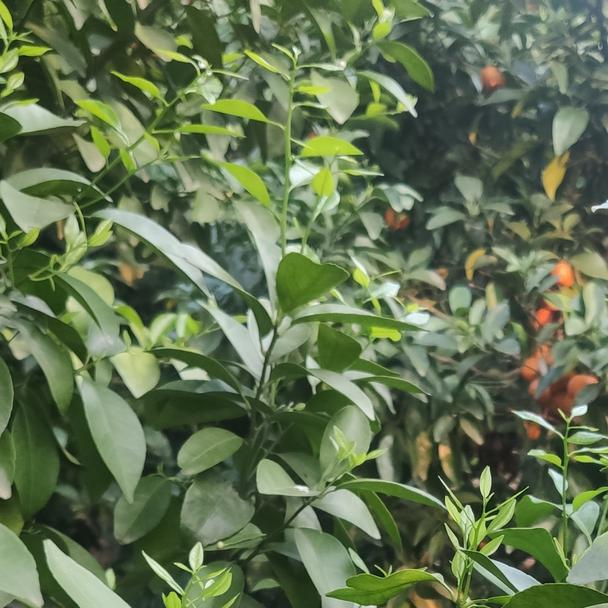shoot: (244, 41, 349, 210), (95, 52, 246, 156), (530, 407, 608, 523), (448, 467, 515, 579)
